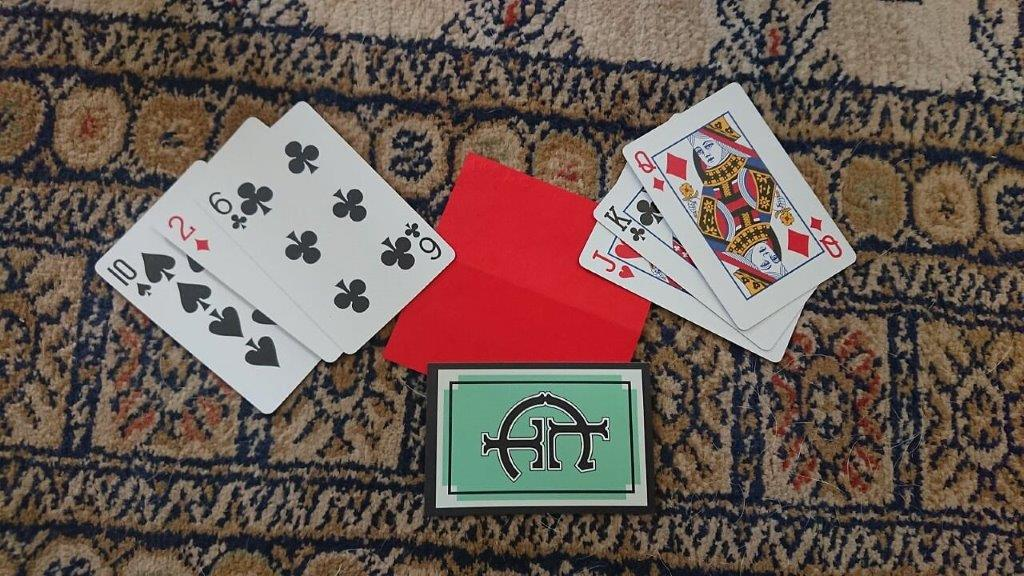10S: (102, 258, 155, 299)
2D: (163, 214, 212, 255)
6C: (205, 188, 250, 234)
JH: (587, 246, 636, 280)
KC: (599, 203, 649, 244)
QD: (631, 148, 666, 196)
